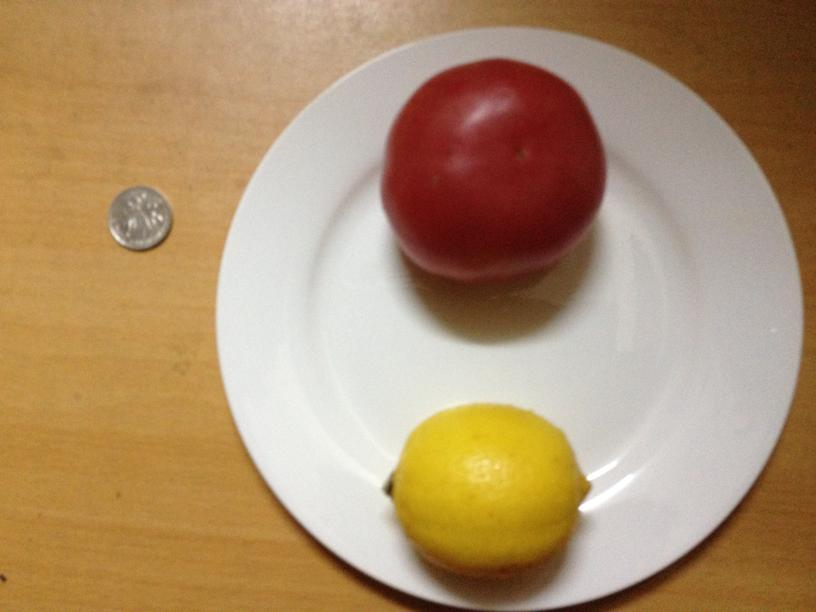coin: (108, 184, 173, 252)
lemon: (387, 402, 587, 580)
tomato: (378, 57, 608, 281)
